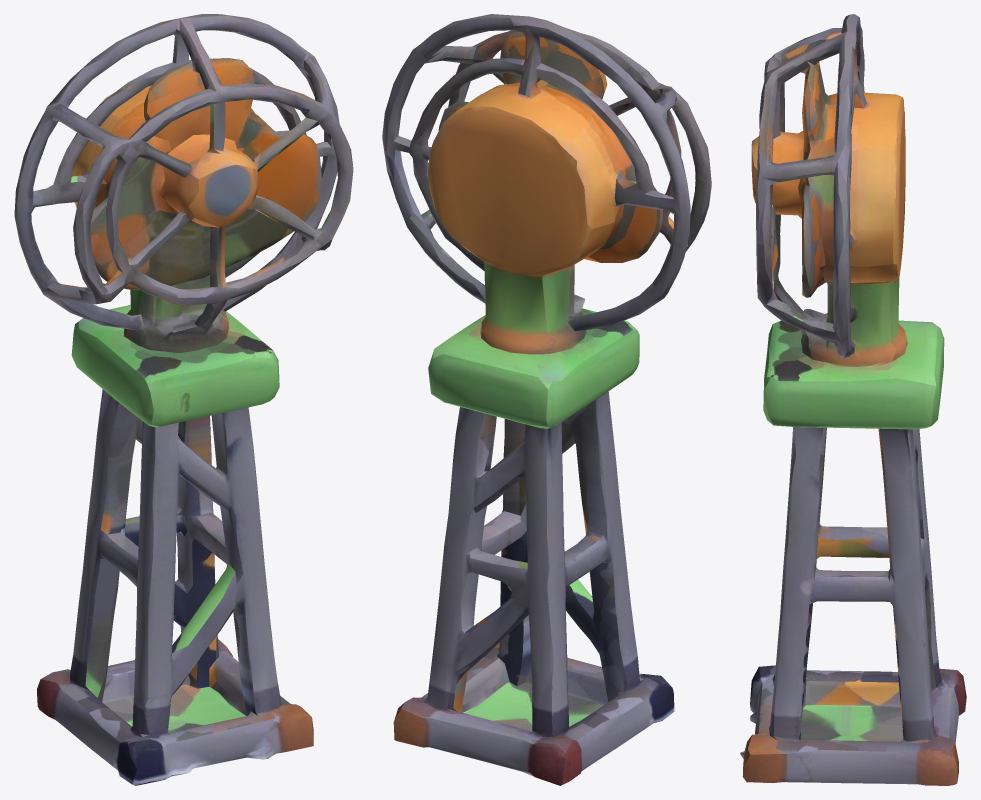
The model's file is wind_turbine_small.glb.
3 renders of one model, left to right at view 1: azimuth 30°, elevation 25°; view 2: azimuth 150°, elevation 25°; view 3: azimuth 270°, elevation 25°, orthographic.
Visible parts, largest first — view 1: wind_turbine_small_s41; view 2: wind_turbine_small_s41; view 3: wind_turbine_small_s41.
Part boxes in pixels (box(x1,y1,x2,y2)): wind_turbine_small_s41: box(14, 14, 353, 785); wind_turbine_small_s41: box(382, 14, 711, 785); wind_turbine_small_s41: box(740, 14, 966, 785).
Bounding box in the file's own units: 0.4654 × 1 × 0.2885.
Materials: 1 (1 with a texture image).
